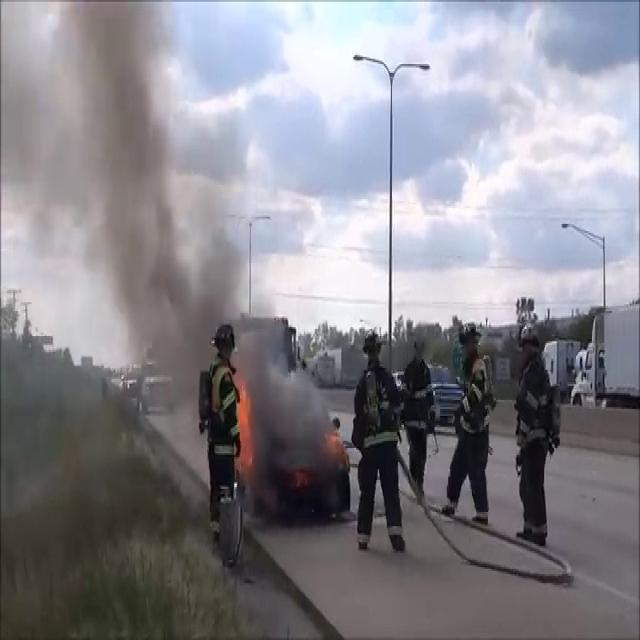Smoke: (12, 1, 246, 402), (224, 338, 348, 516)
